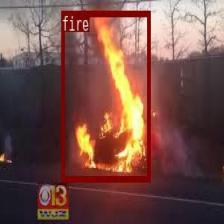fire: (61, 9, 150, 181)
